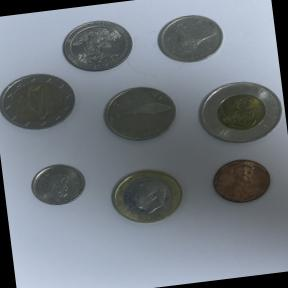1 Euro-B: (99, 159, 194, 234)
2 Euro-B: (0, 67, 79, 138)
Canada-10cent-B: (23, 155, 92, 213)
Canada-2Dollar-B: (185, 69, 288, 157)
Croatia-2Kune-B: (94, 76, 184, 152)
US-1cent-B: (198, 150, 276, 213)
US-25cent-B: (57, 15, 138, 79)
